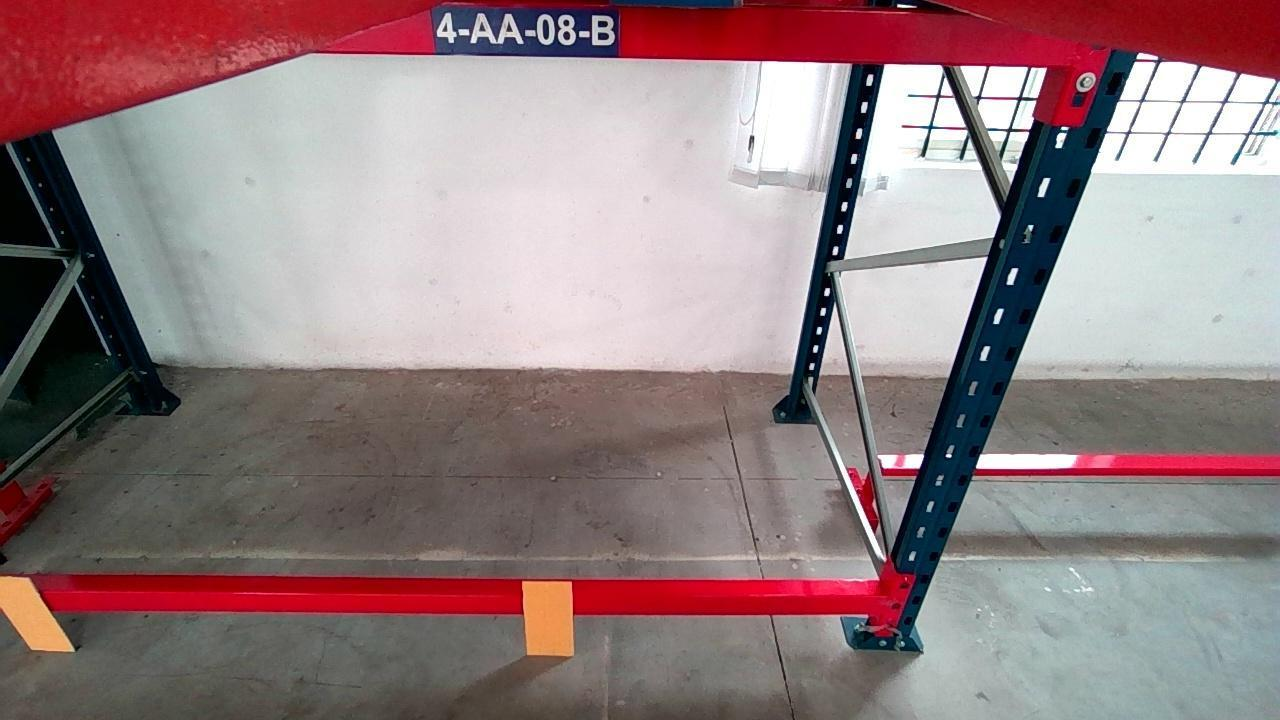h_rack: (314, 0, 1107, 66), (0, 590, 895, 616)
orange_strip: (0, 575, 73, 650), (522, 578, 575, 658)
